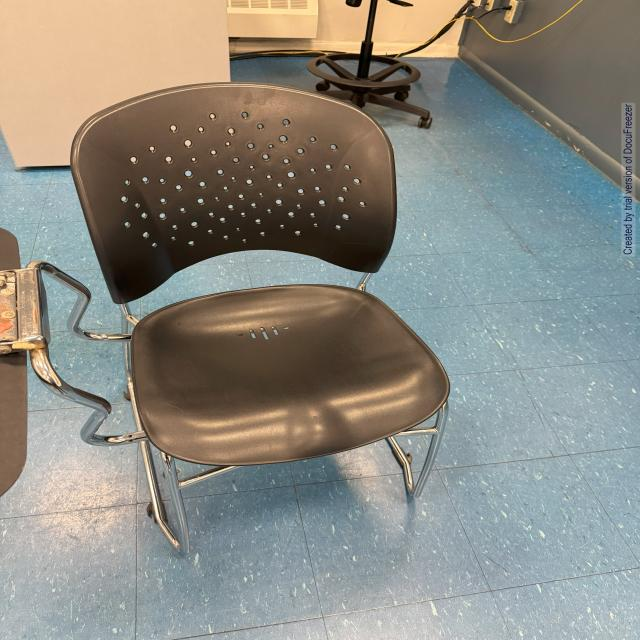chair: (5, 73, 470, 583)
